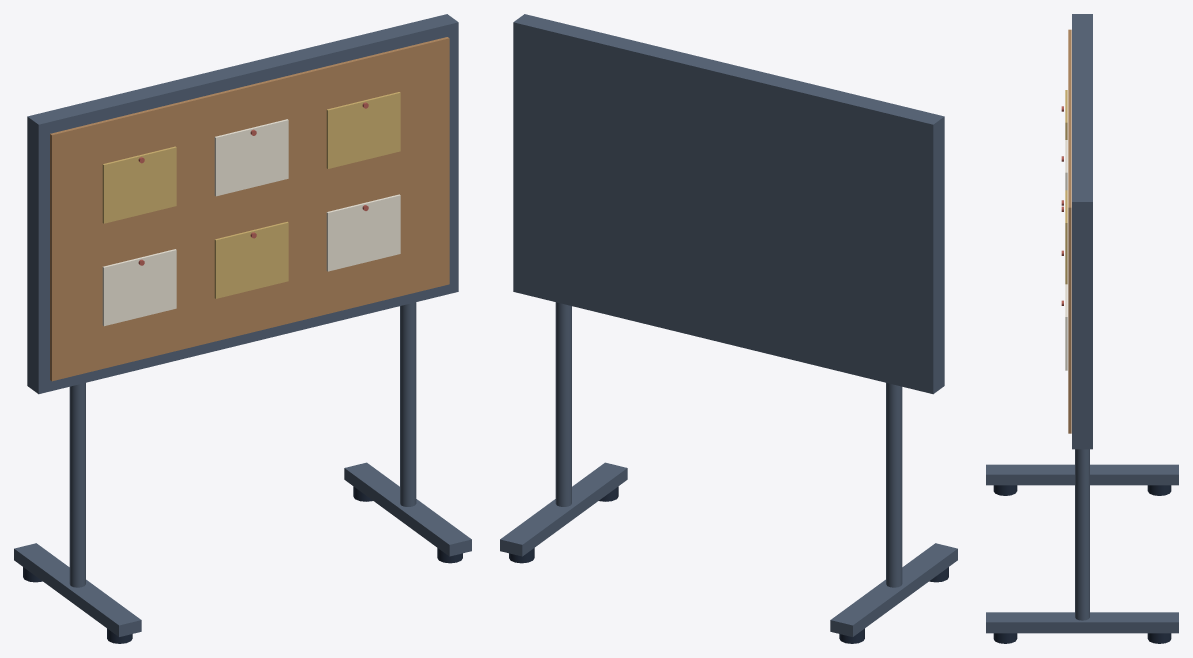
Rendered from officePinboard.glb.
3 views of the same model, side by side, from view 1: azimuth 30°, elevation 25°; view 2: azimuth 150°, elevation 25°; view 3: azimuth 270°, elevation 25° (orthographic). The views are drawn at different scales.
Bounding box in the file's own units: 1.5 × 1.7 × 0.65.
